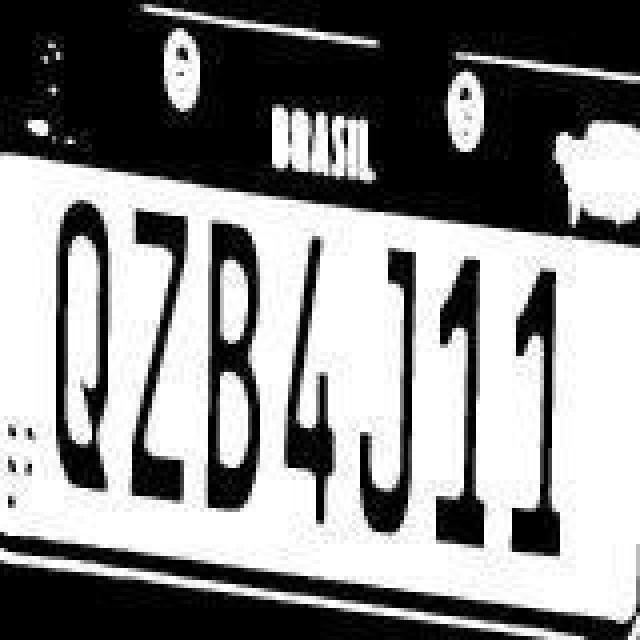1: (424, 248, 496, 560), (506, 256, 566, 560)
4: (278, 208, 346, 512)
B: (202, 198, 270, 514)
J: (362, 230, 422, 538)
Q: (52, 184, 124, 496)
Z: (120, 228, 192, 524)
